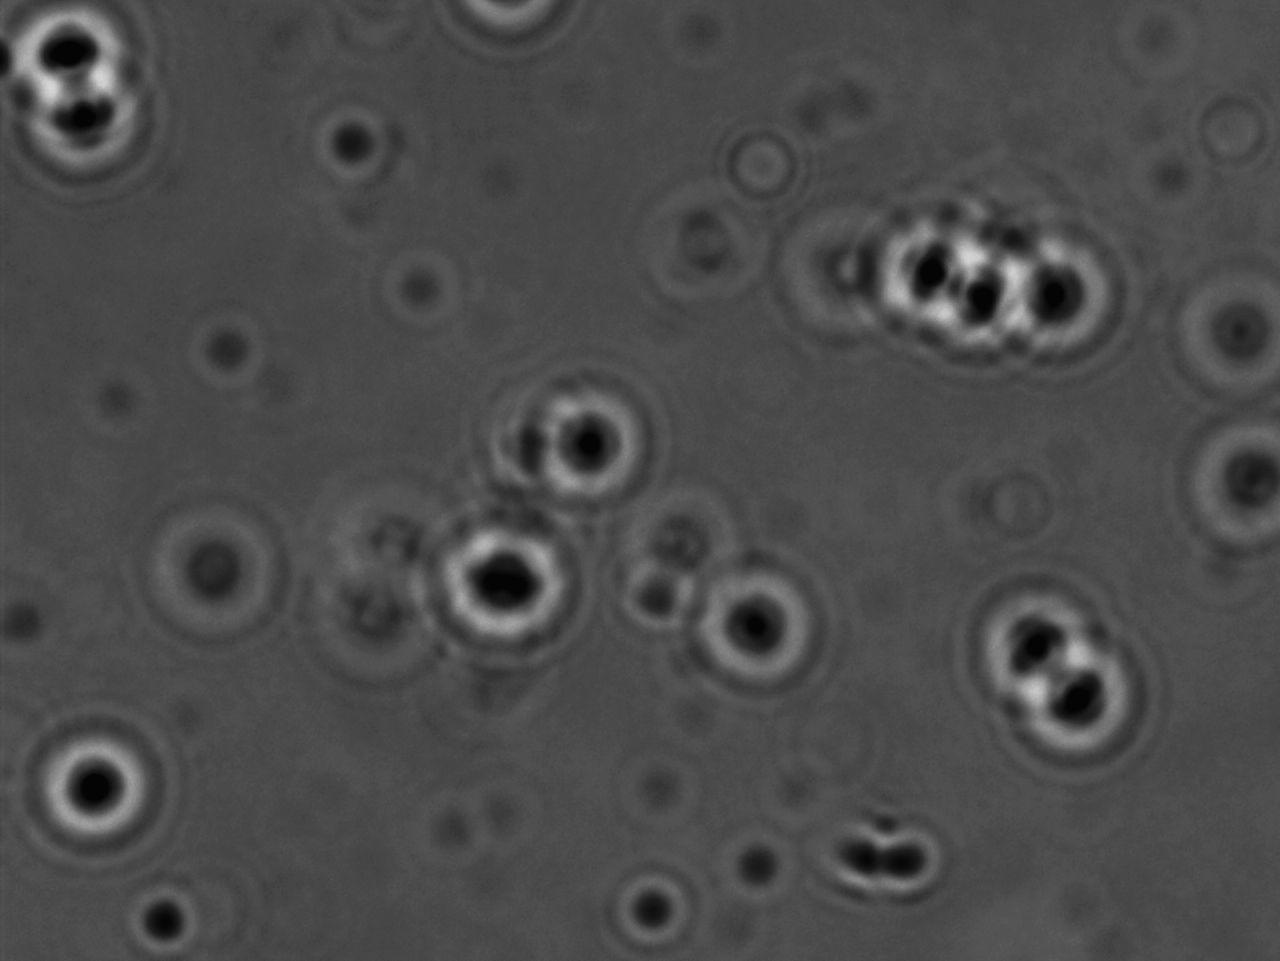depth:-24: (979, 209, 1125, 369), (1001, 615, 1139, 775), (418, 513, 572, 655), (26, 725, 173, 859), (16, 56, 161, 184)
